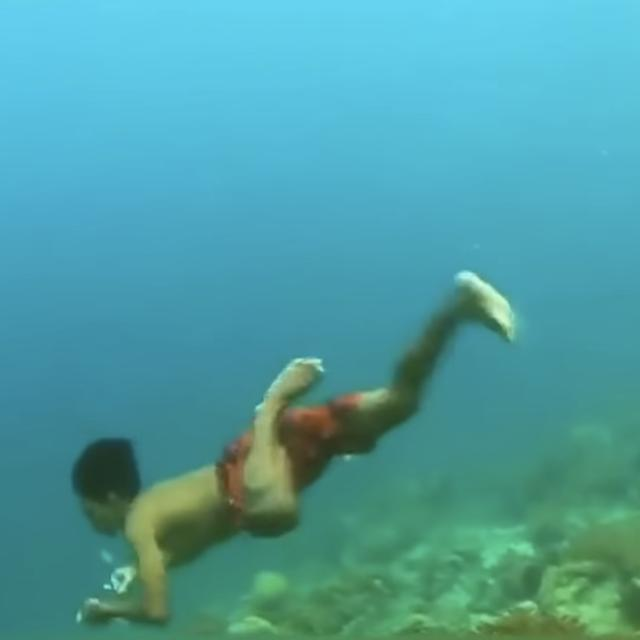human: (57, 262, 526, 632)
